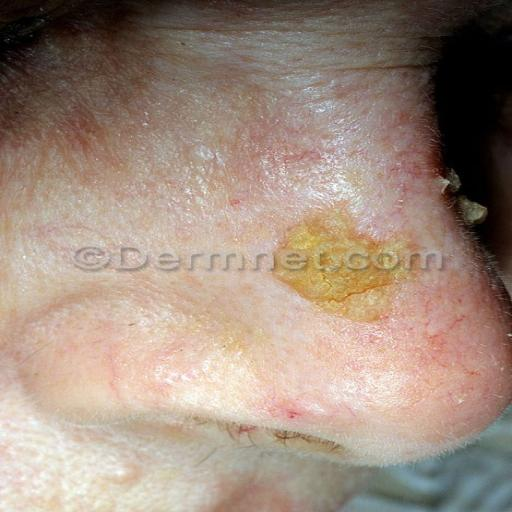Skin_Lesion: (269, 215, 413, 324)
